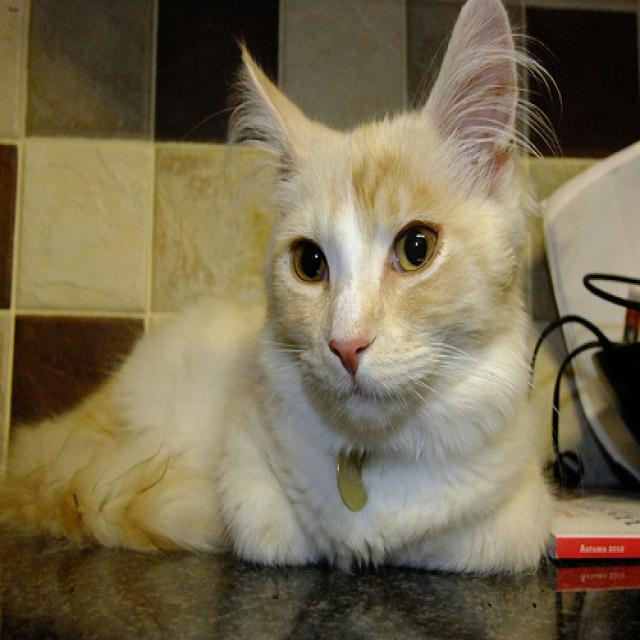Maine_Coon: (232, 0, 530, 441)
